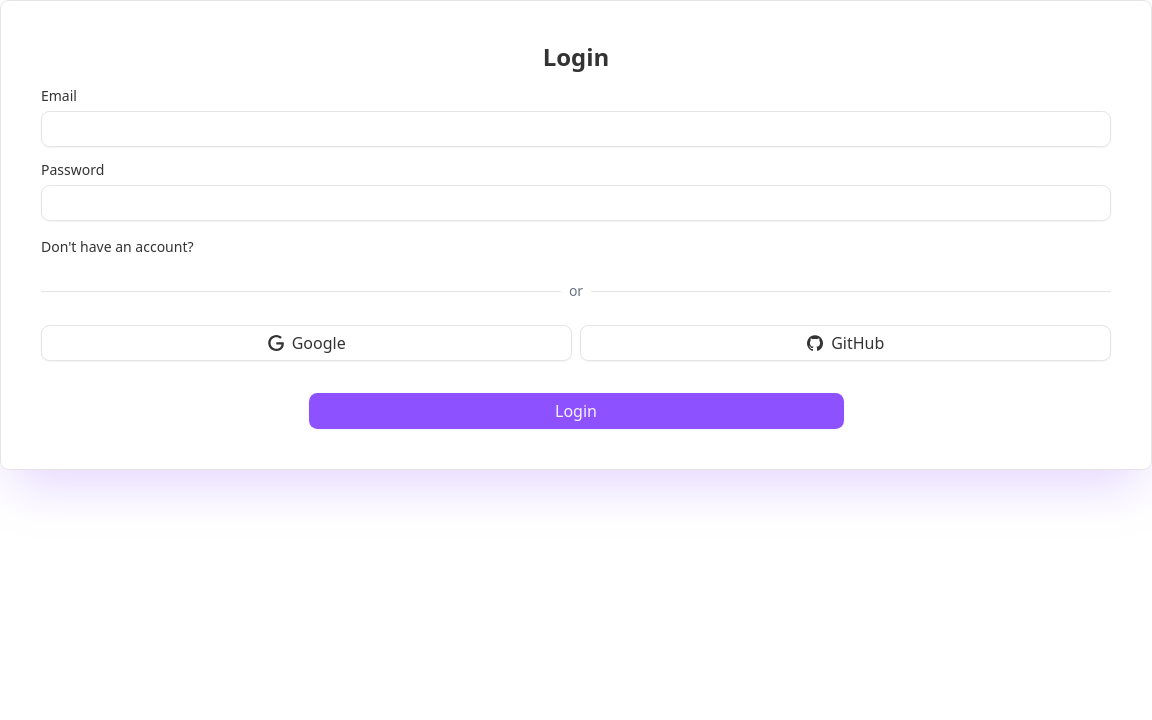
it: LoginForm component test › Form validation › Should show required field when submitting empty form
This screenshot has width=1152, height=720.
Click the button with test id "login-submit" at point(576, 411), box [308,393,844,429]
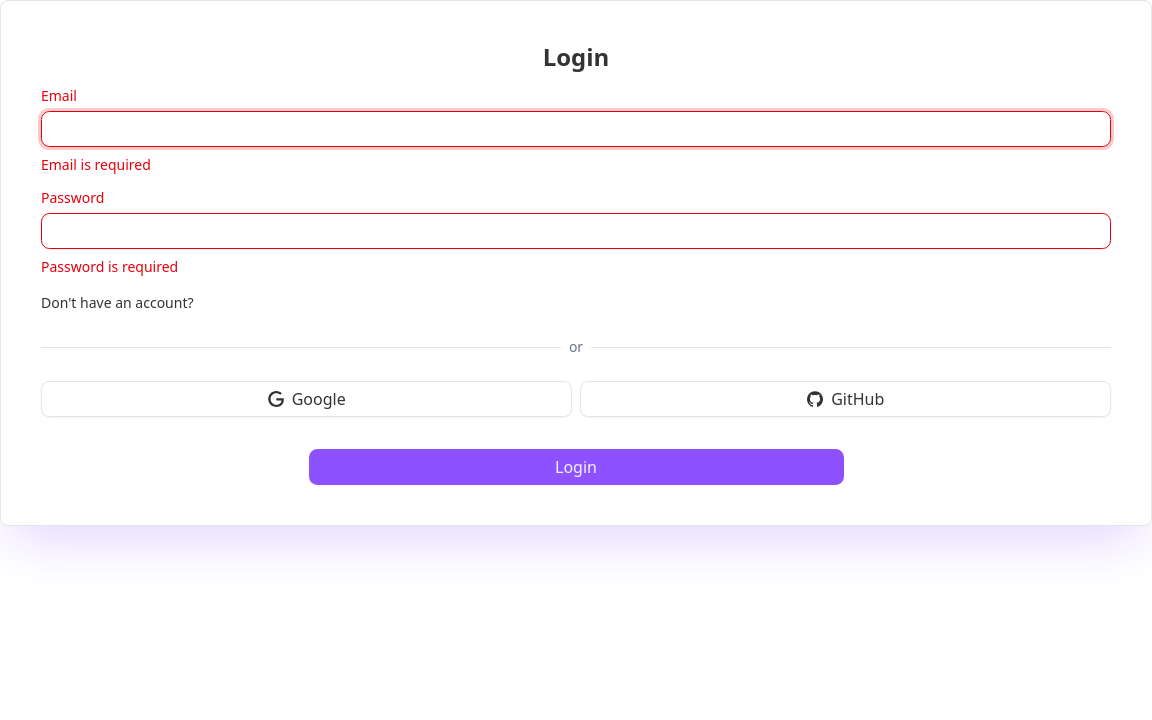
Expected: the text "Email is required" is shown, [41,155,151,174]
Expected: the text "Password is required" is shown, [41,257,178,276]
